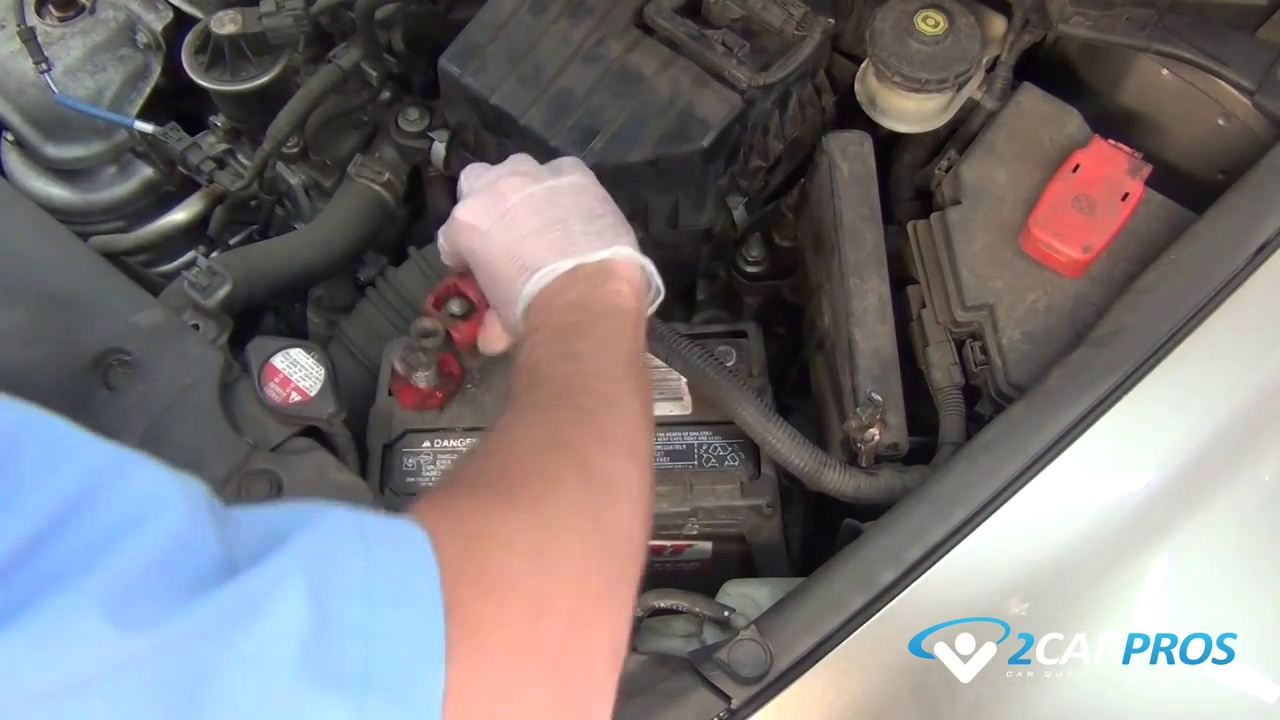battery: (388, 305, 772, 533)
neg_disconnected: (685, 299, 780, 399)
pos_touched: (385, 210, 550, 419)
